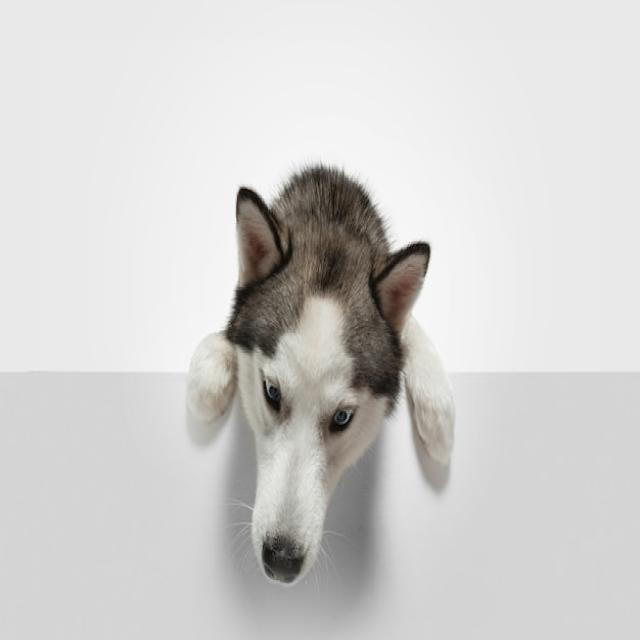Dog: (188, 163, 455, 589)
